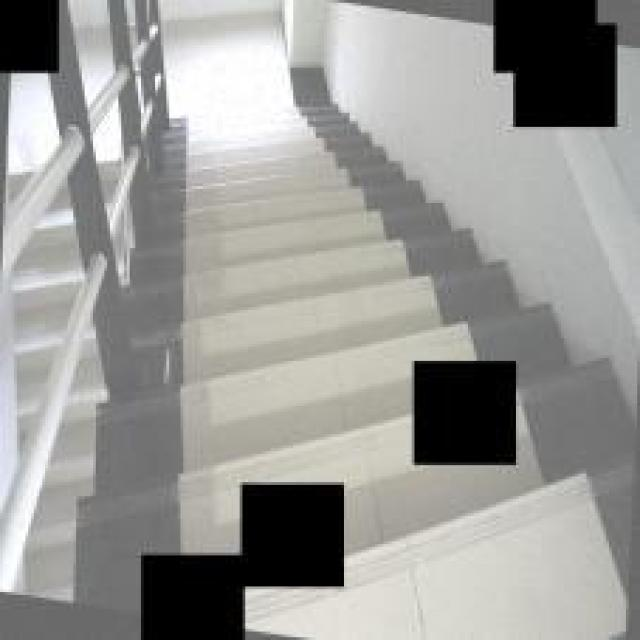downstair: (176, 91, 404, 458)
